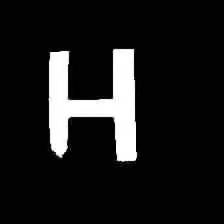LTR_H: (37, 42, 142, 174)
